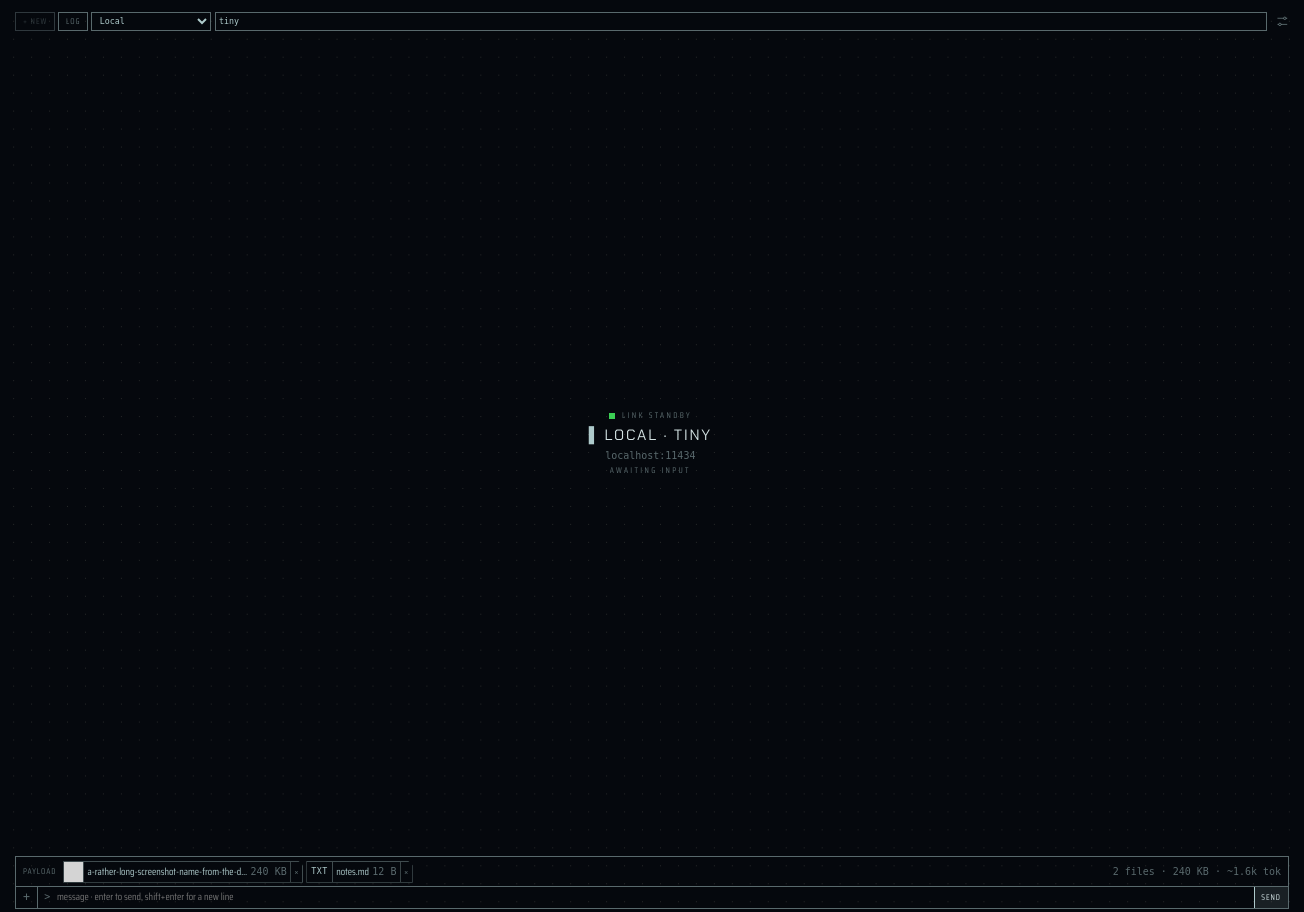
Test: AiChatWidget files › shows the files waiting in its draft, and sends them with no words needed
Expected: the text with test id "aichat-payload-total" reads "2 files · 240 KB · ~1.6k tok", left=1113, top=866, right=1281, bottom=877
Click the button with test id "aichat-send" at (1271, 897), box left=1254, top=887, right=1288, bottom=908
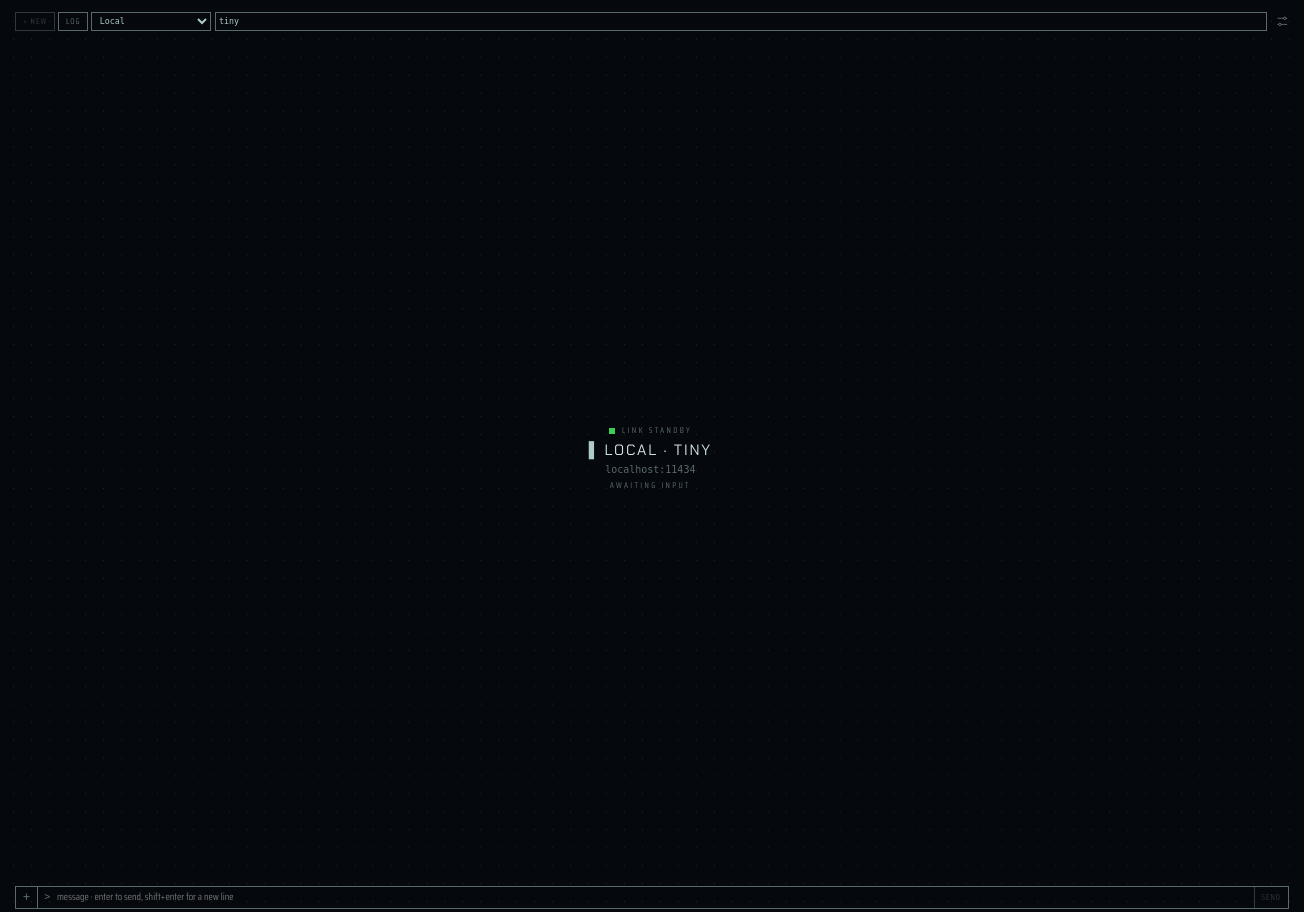
Result: the element with test id "aichat-payload" is gone
